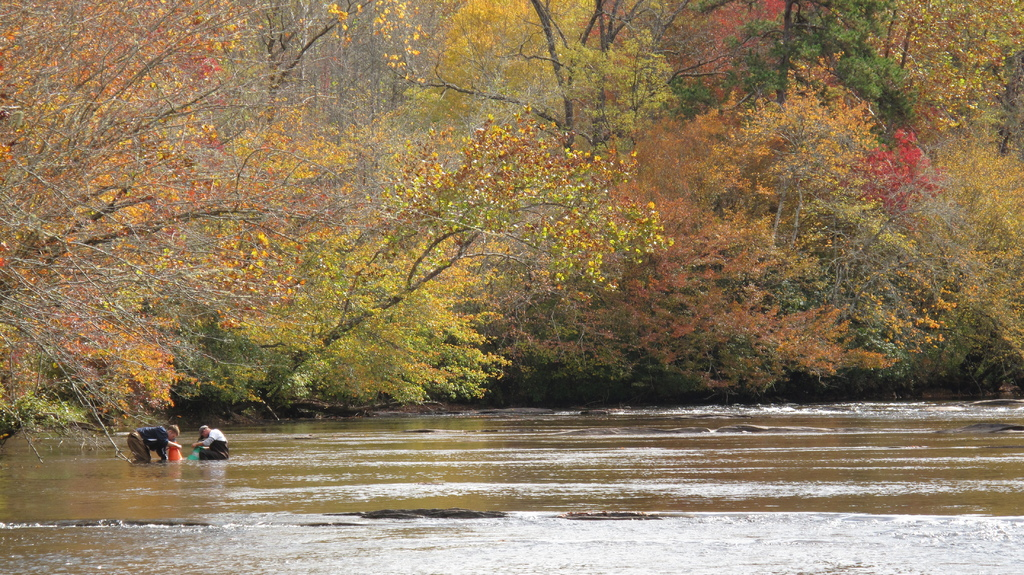Tree: (0, 15, 1024, 426)
